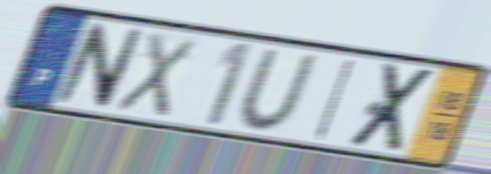1: (204, 39, 254, 130)
I: (309, 56, 360, 144)
N: (50, 20, 148, 113)
U: (237, 47, 322, 135)
X: (343, 61, 441, 155), (111, 29, 201, 121)
